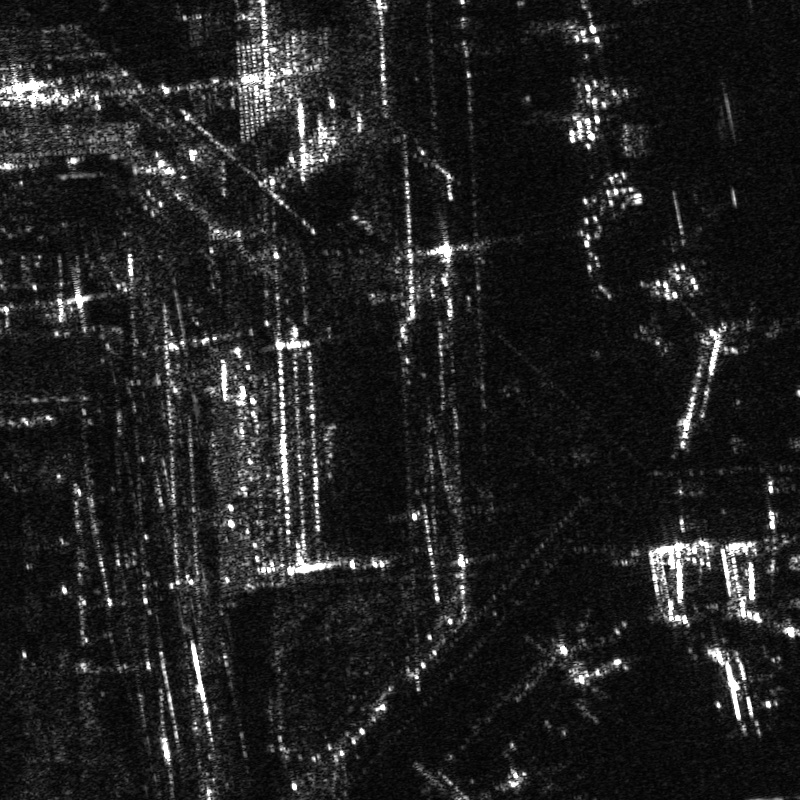A220: (689, 638, 785, 741)
A320/321: (429, 766, 542, 799)
Boeing737: (543, 639, 634, 710)
